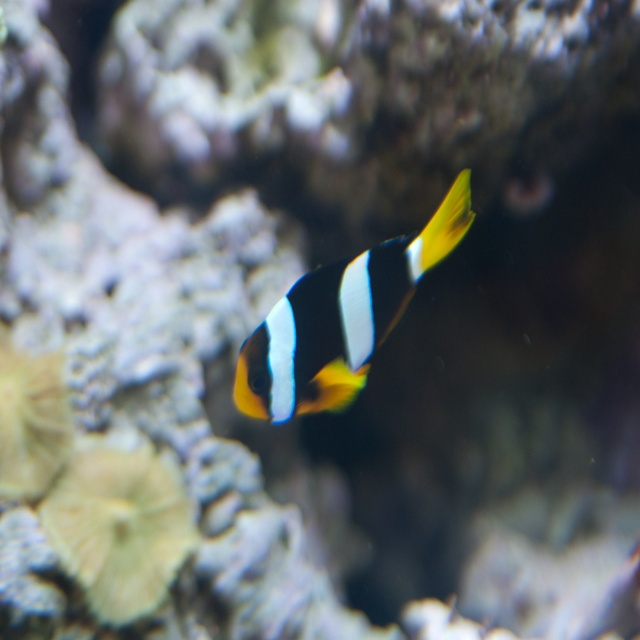Fish: (232, 168, 476, 424)
